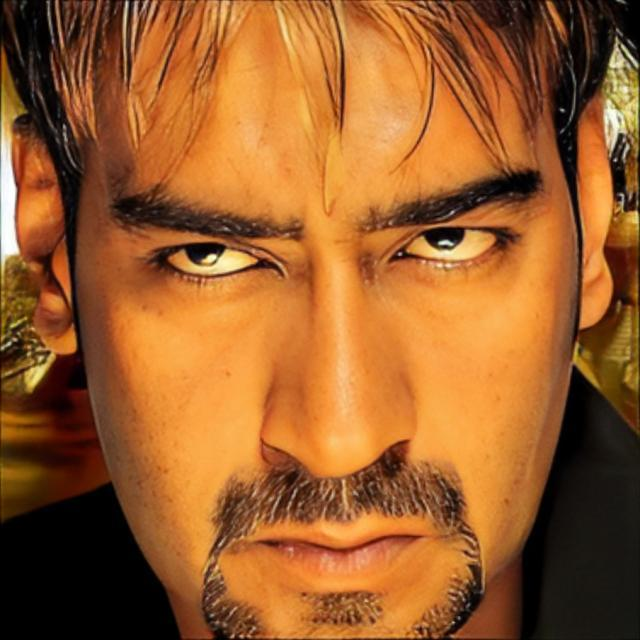anger: (76, 0, 560, 585)
